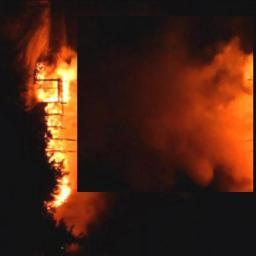Heavy smoke: (88, 9, 238, 194)
Large fire: (29, 16, 81, 207)
